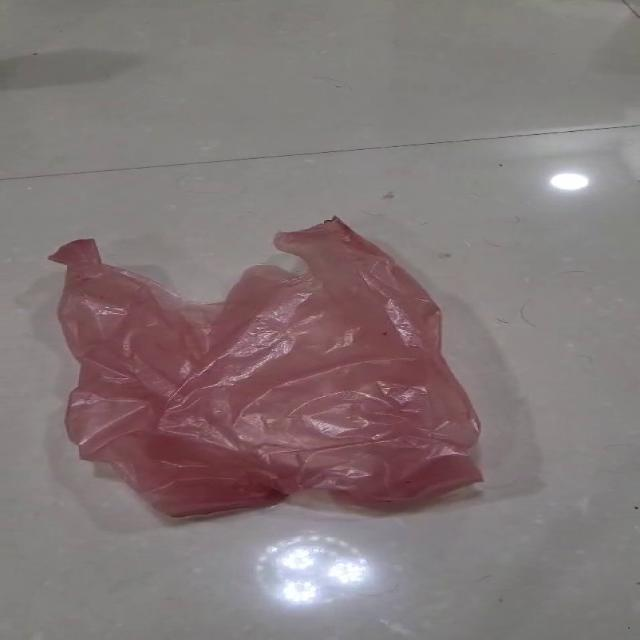plastic: (47, 214, 485, 518)
